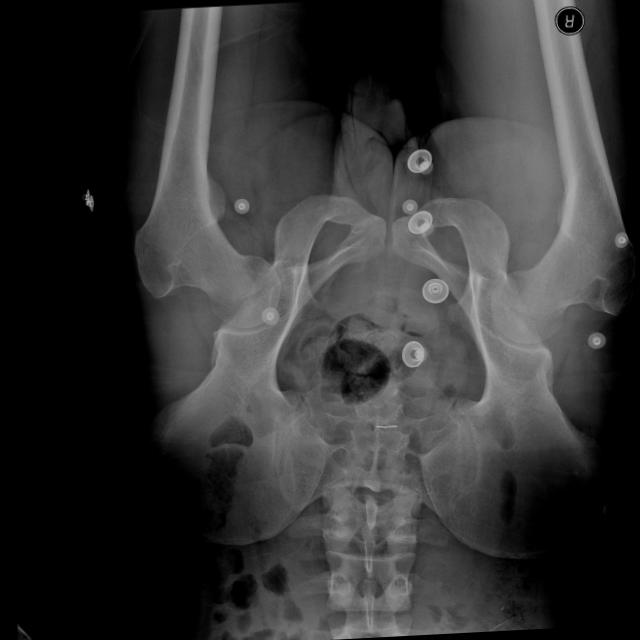normal-left: (133, 113, 281, 328)
normal-right: (490, 121, 634, 344)
